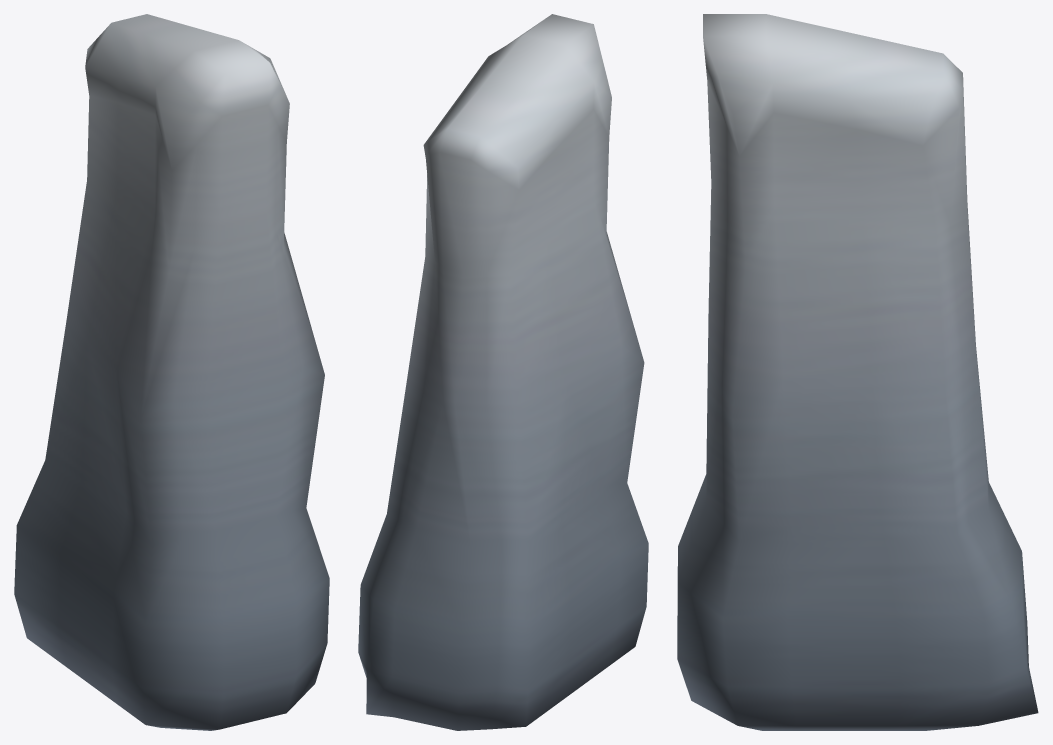
The model's file is StoneSlab1.fbx.
3 views of the same model, side by side, from view 1: azimuth 30°, elevation 25°; view 2: azimuth 150°, elevation 25°; view 3: azimuth 270°, elevation 25° (orthographic). The views are drawn at different scales.
Visible parts, largest first — view 1: pCube13; view 2: pCube13; view 3: pCube13.
Boxes of the visible parts, <box> form: pCube13: <box>14,14,329,730</box>; pCube13: <box>358,14,648,730</box>; pCube13: <box>677,14,1038,730</box>.
Bounding box in the file's own units: 2.13 × 7.37 × 3.56.
